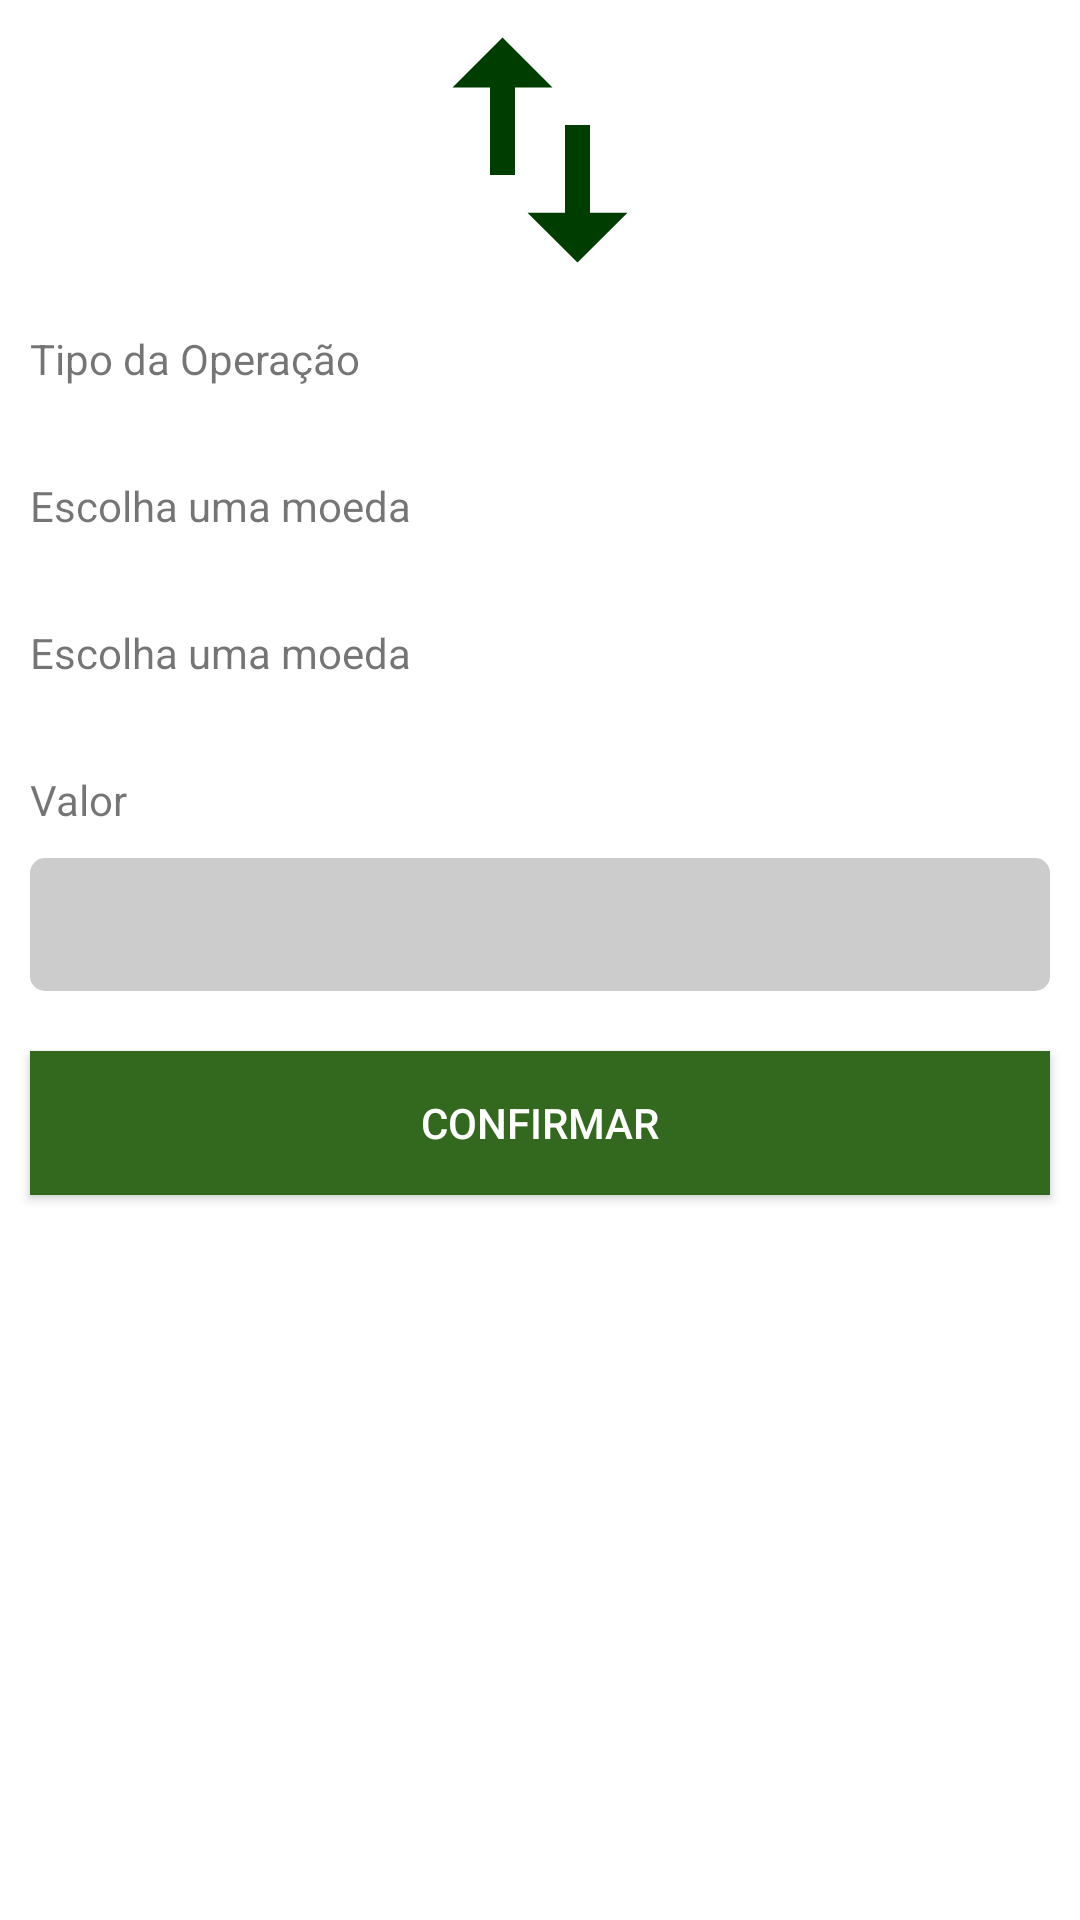

Where to tap for icons on this 1080w x 1920h app screen, as (x=x, y=y):
transaction: (x=539, y=150)
